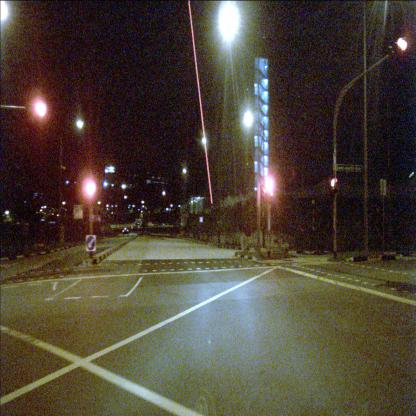vehicle-car: (122, 227, 130, 236)
